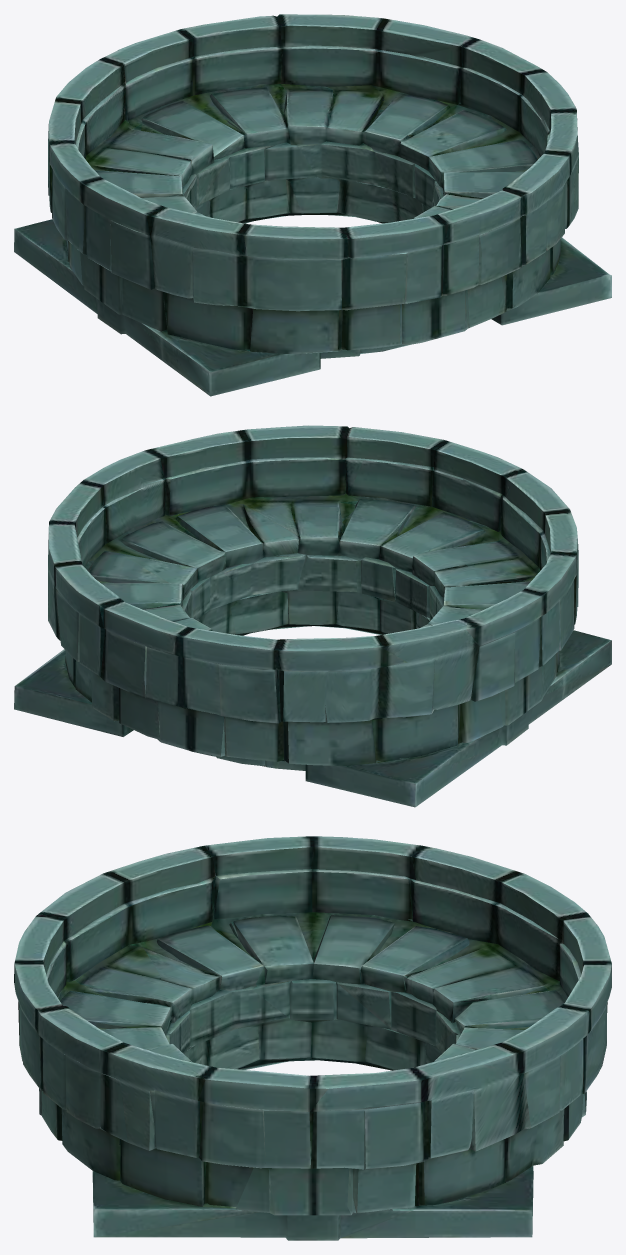
File: prop_stairs.glb
3 renders of one model, top to bottom at view 1: azimuth 30°, elevation 25°; view 2: azimuth 150°, elevation 25°; view 3: azimuth 270°, elevation 25°, orthographic. The views are drawn at different scales.
Size of the model in its own units: 1.9 by 0.596 by 1.9.
1 material, 1 textured.
